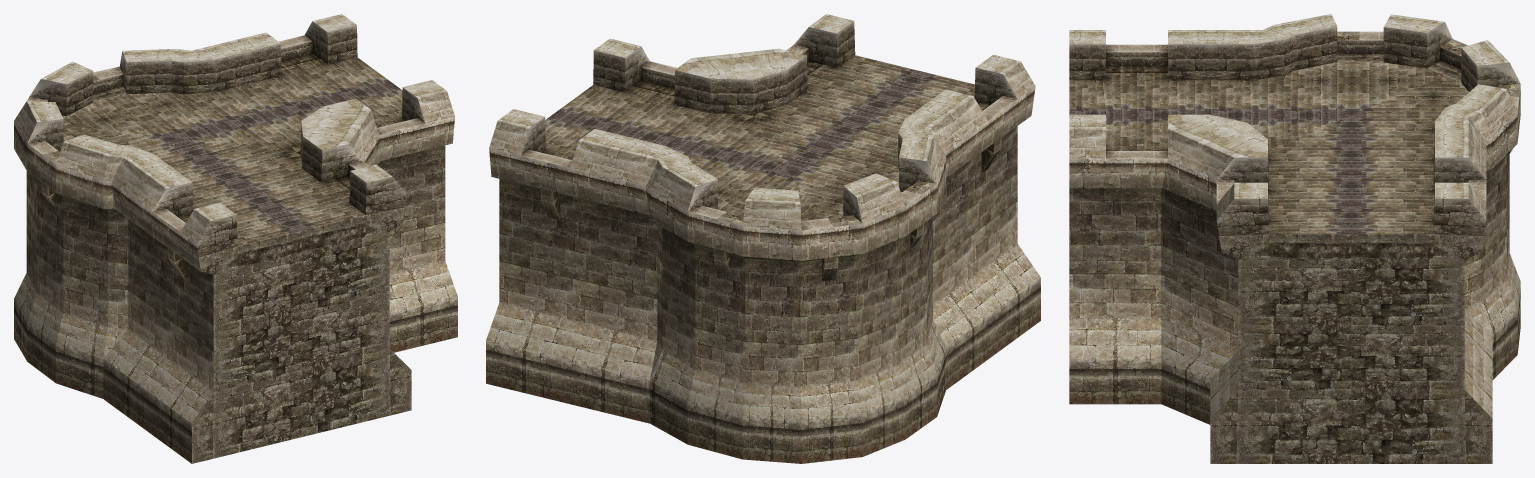
Rendered from OZ_30_mi_gate02D.glb.
The picture shows the model from 3 angles, left to right: view 1: azimuth 30°, elevation 25°; view 2: azimuth 150°, elevation 25°; view 3: azimuth 270°, elevation 25°; orthographic projection. The views are drawn at different scales.
Visible parts, largest first — view 1: OM_30_mi_gate02D; view 2: OM_30_mi_gate02D; view 3: OM_30_mi_gate02D.
Part boxes in pixels (left/top/right/bottom): OM_30_mi_gate02D: left=14, top=14, right=457, bottom=463; OM_30_mi_gate02D: left=486, top=14, right=1040, bottom=463; OM_30_mi_gate02D: left=1069, top=14, right=1520, bottom=463.
Bounding box in the file's own units: 15.88 × 10.37 × 16.
Materials: 2 (2 with a texture image).
